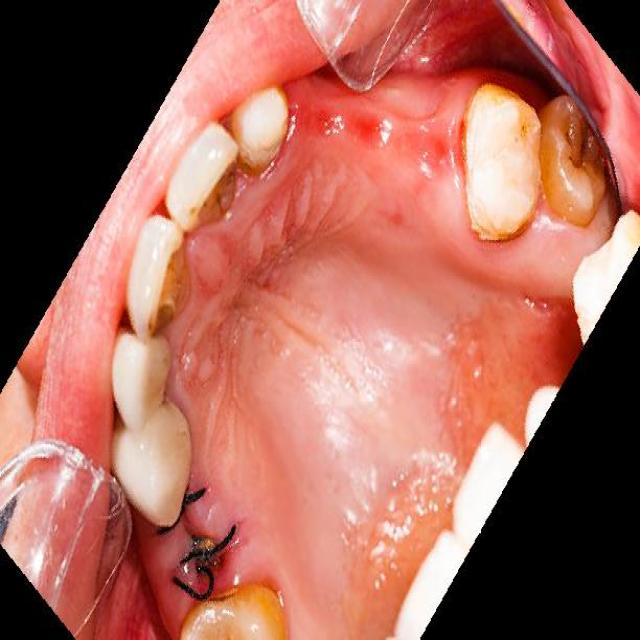caries: (145, 238, 200, 346), (188, 140, 240, 233)
